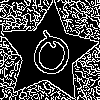Q: (23, 28, 78, 89)
